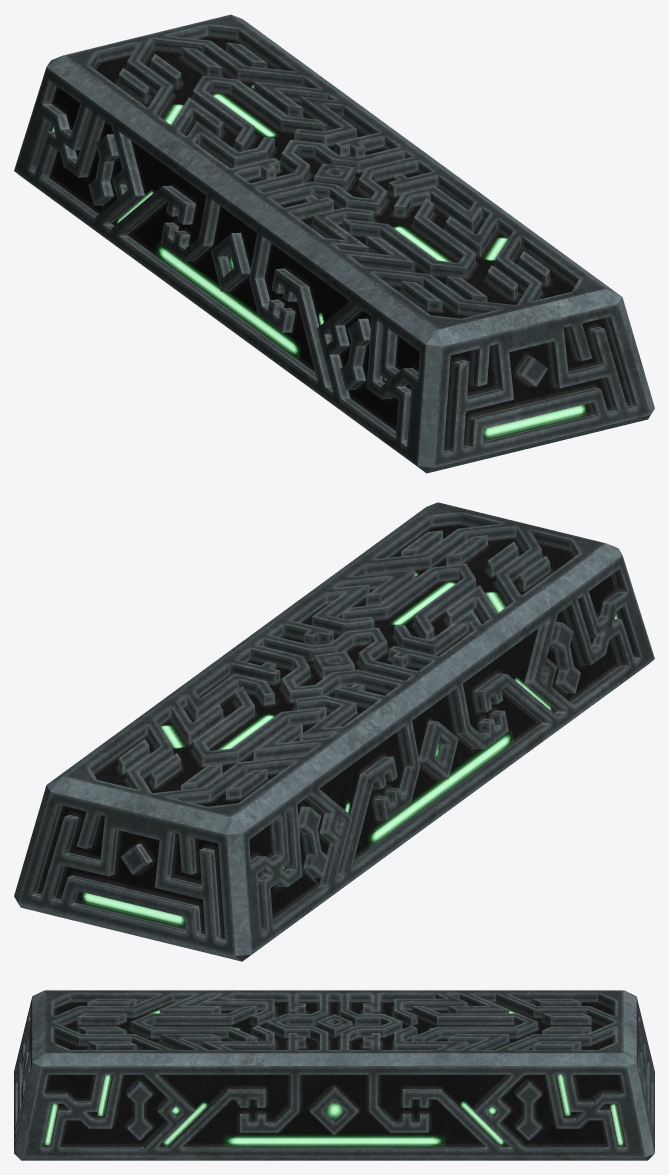
Rendered from PrecursorIngot.fbx.
3 renders of one model, top to bottom at view 1: azimuth 30°, elevation 25°; view 2: azimuth 150°, elevation 25°; view 3: azimuth 270°, elevation 25°, orthographic. The views are drawn at different scales.
Visible parts, largest first — view 1: PrecursorIngot; view 2: PrecursorIngot; view 3: PrecursorIngot.
Boxes of the visible parts, bbox=[...] form: PrecursorIngot: bbox=[14, 14, 654, 473]; PrecursorIngot: bbox=[14, 502, 654, 961]; PrecursorIngot: bbox=[14, 990, 654, 1160].
Size of the model in its own units: 123 by 62.5 by 373.
Materials: 3 (3 with a texture image).
